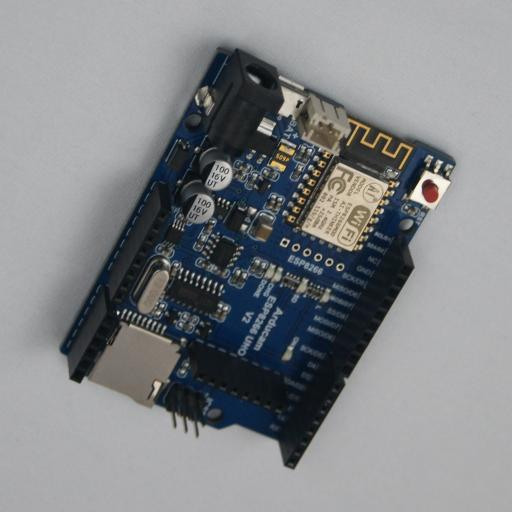Arduino Uno Camera Shield: (59, 45, 456, 469)
